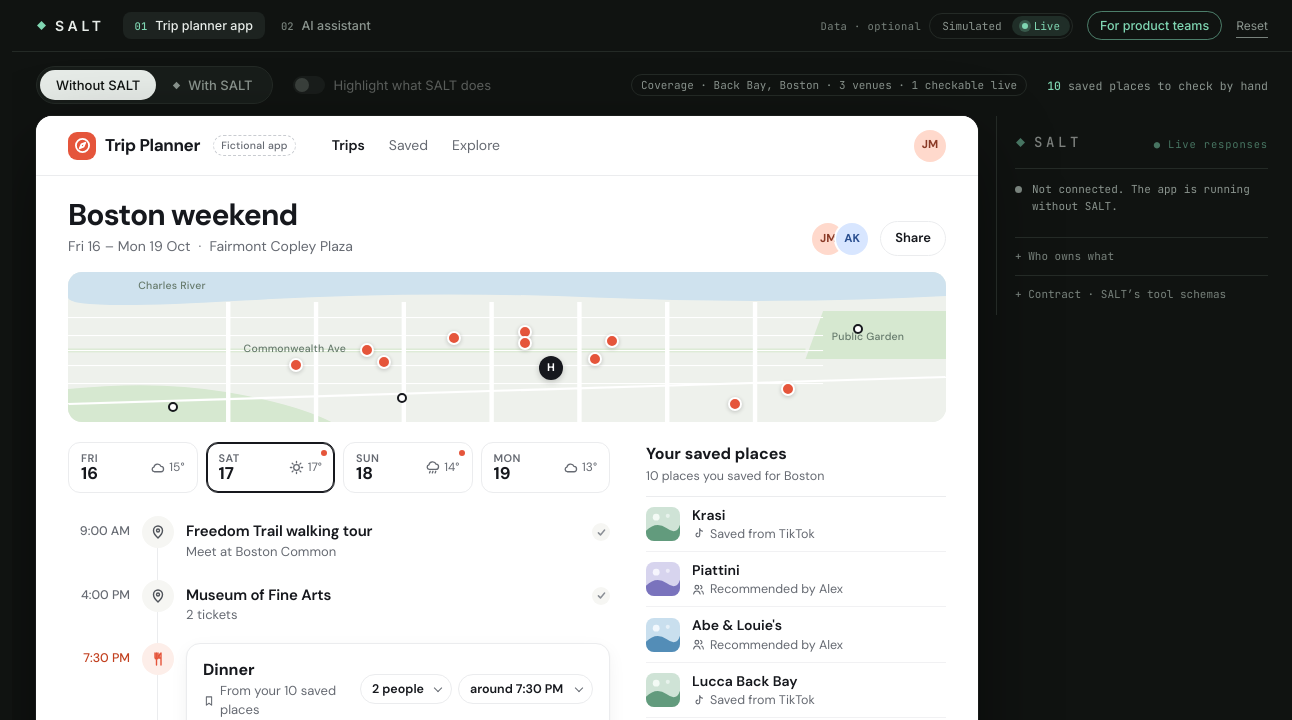
the live assistant › sends the conversation to the server and shows SALT’s facts as cards
Step 1. Click the tab "02 AI assistant" → (326, 26), box [269,12,383,39]
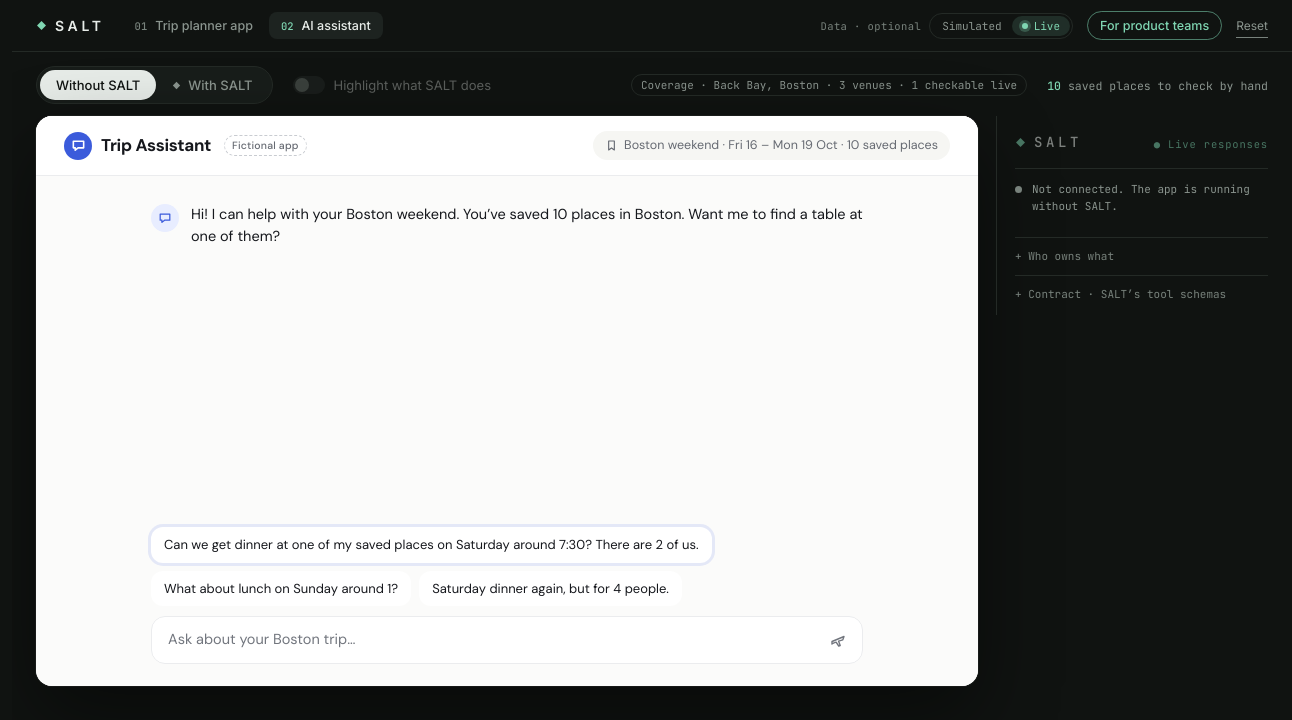
Step 2. Click the button "With SALT" → (212, 85), box [156,70,268,100]
(page scrolled)
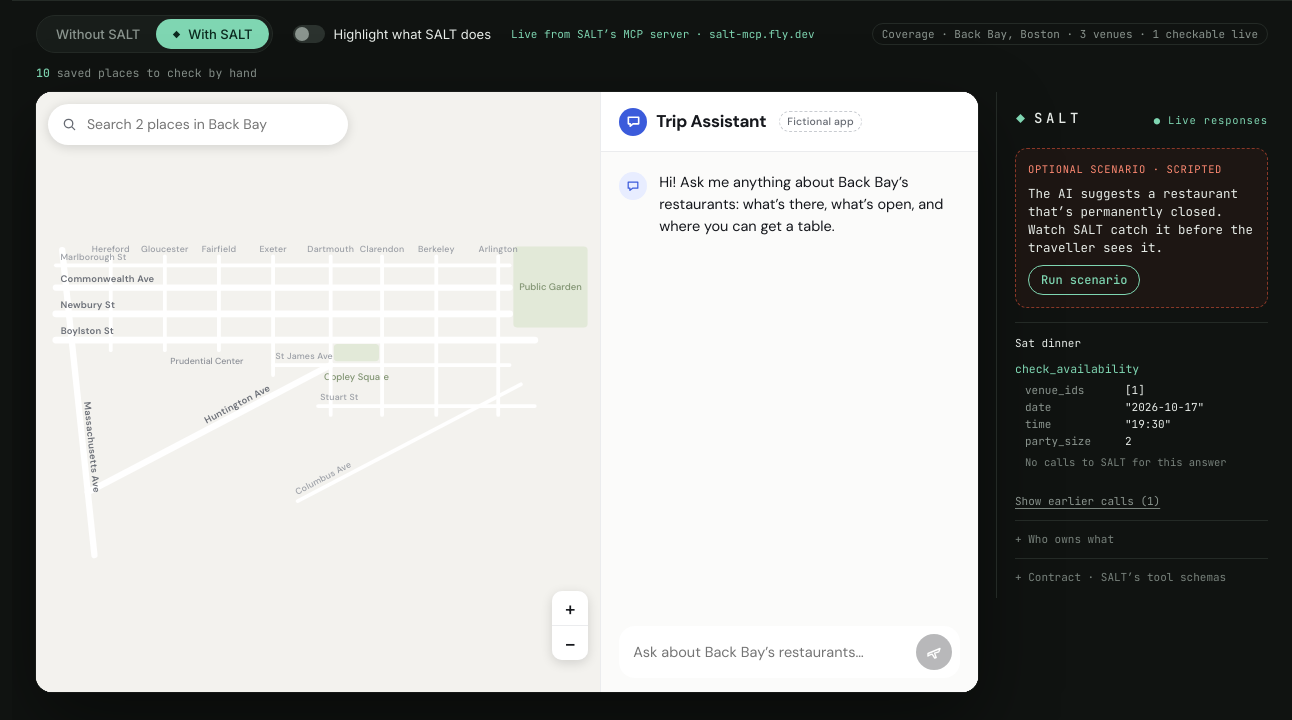
Step 3. Type "Table at Krasi Saturday 7:30 for 2?" into the text box named "Message Trip Assistant" → (771, 653), box [633,636,908,670]
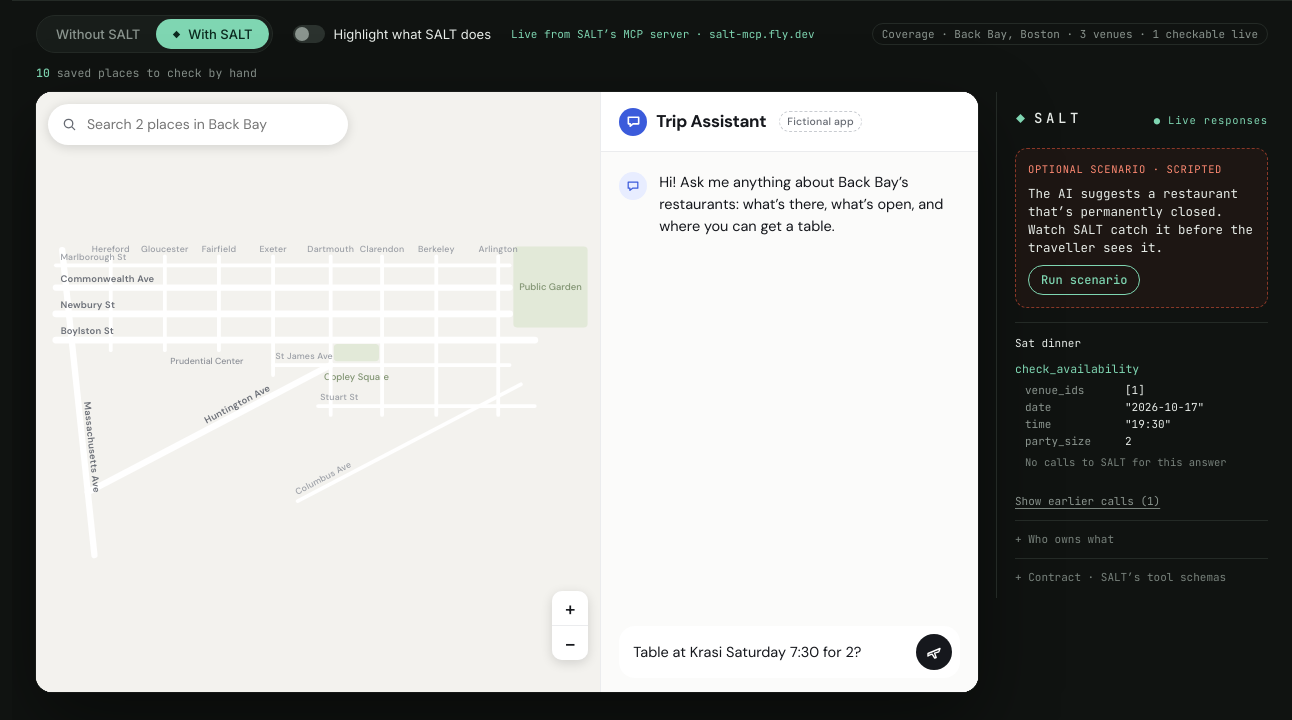
Step 4. Click the button named "Send" → (934, 652), box [916,634,952,670]
(page scrolled)
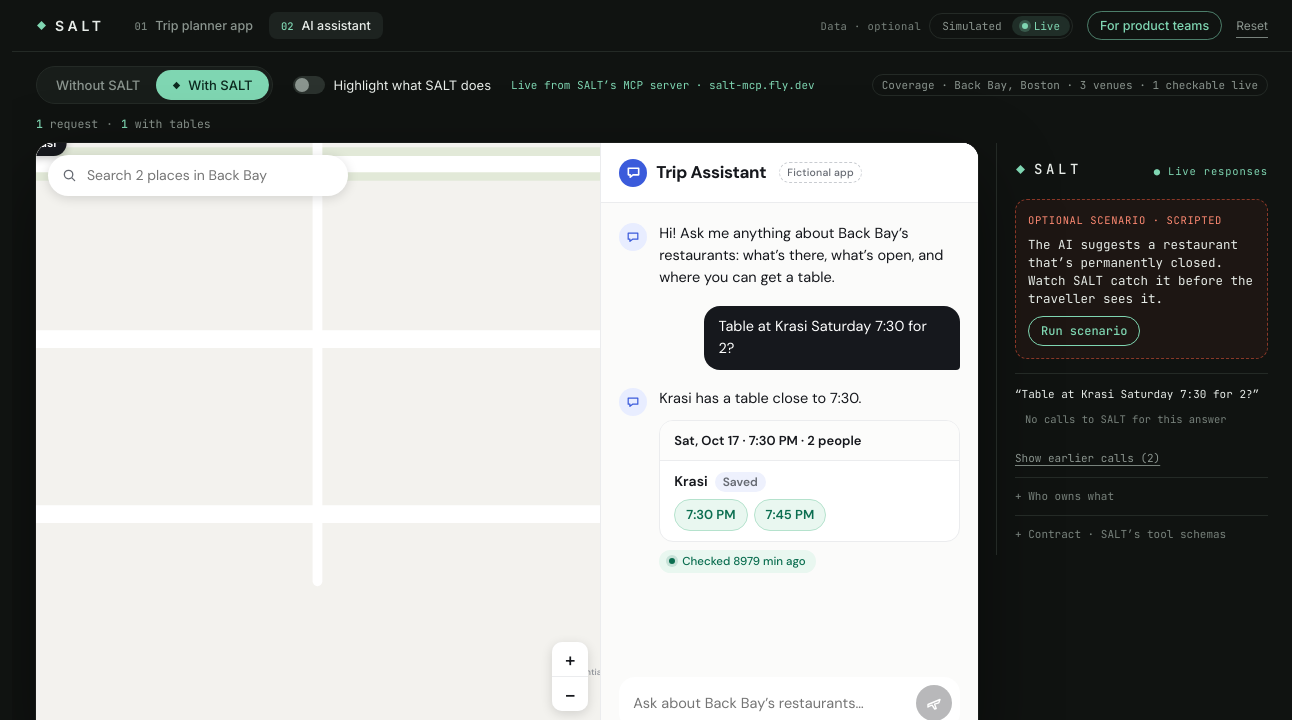
Result: the text "Krasi has a table close to 7:30." is shown at [659,389,862,407]
Result: the button with aria-label "Krasi at 7:30 PM" is shown at [674,499,748,530]
Step 5. Click the button "Without SALT" → (98, 85), box [40,70,156,100]
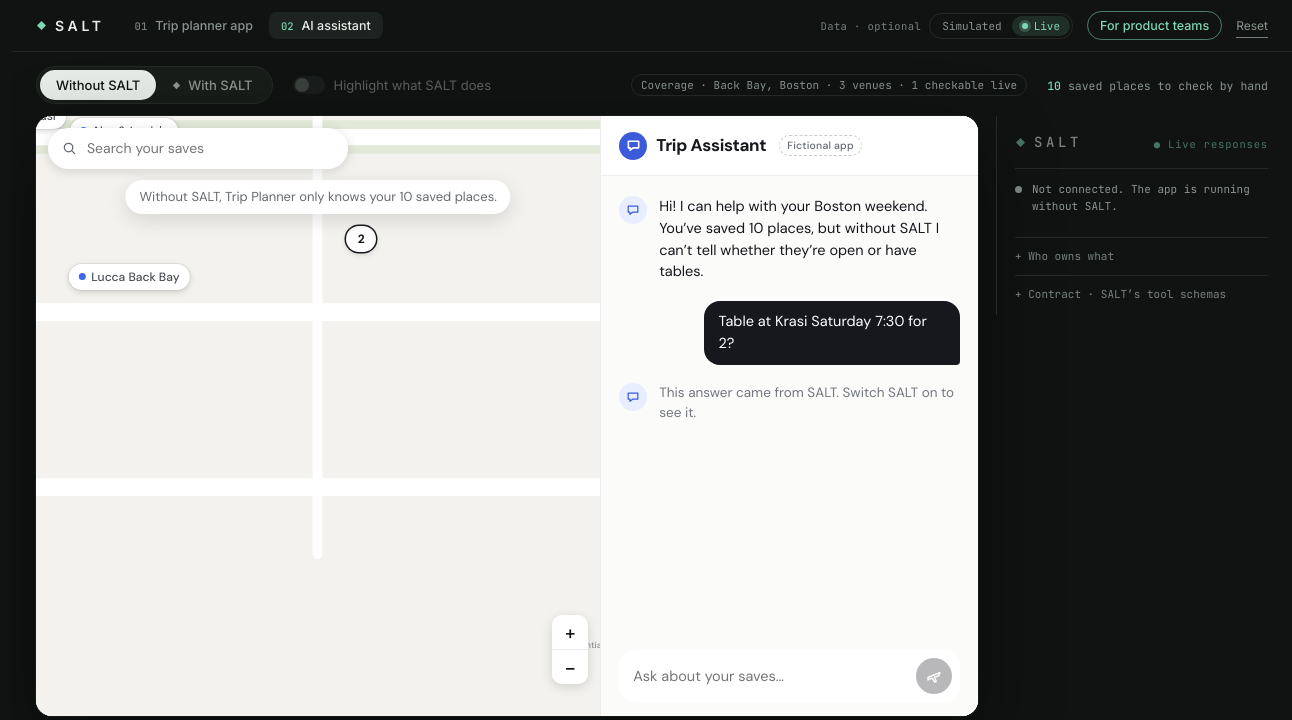
Result: the text "Krasi has a table close to 7:30." is gone
Result: the text "This answer came from SALT. Switch SALT on to see it." is shown at [659,382,960,423]
